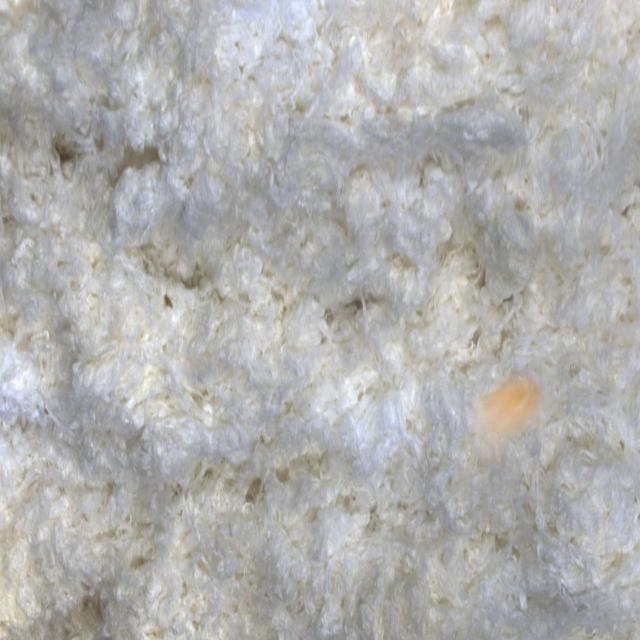dust: (460, 369, 563, 493)
